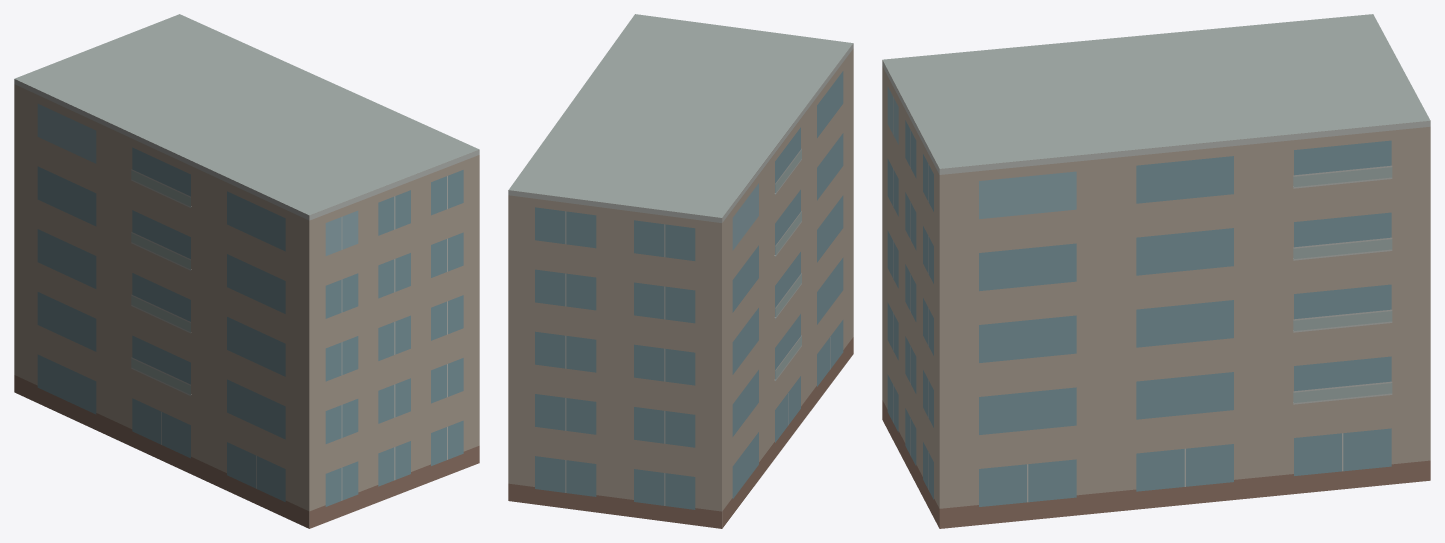
Rendered from survey-upis-32715540.glb.
The picture shows the model from 3 angles, left to right: view 1: azimuth 30°, elevation 25°; view 2: azimuth 150°, elevation 25°; view 3: azimuth 270°, elevation 25°; orthographic projection. The views are drawn at different scales.
Parts seen in each view (by area): view 1: survey-upis-32715540.tmp; view 2: survey-upis-32715540.tmp; view 3: survey-upis-32715540.tmp.
Part boxes in pixels (x1,y1,x2,y2): survey-upis-32715540.tmp: [14, 14, 479, 528]; survey-upis-32715540.tmp: [508, 14, 853, 528]; survey-upis-32715540.tmp: [882, 14, 1430, 528].
Bounding box in the file's own units: 13.49 × 14.6 × 20.17.
